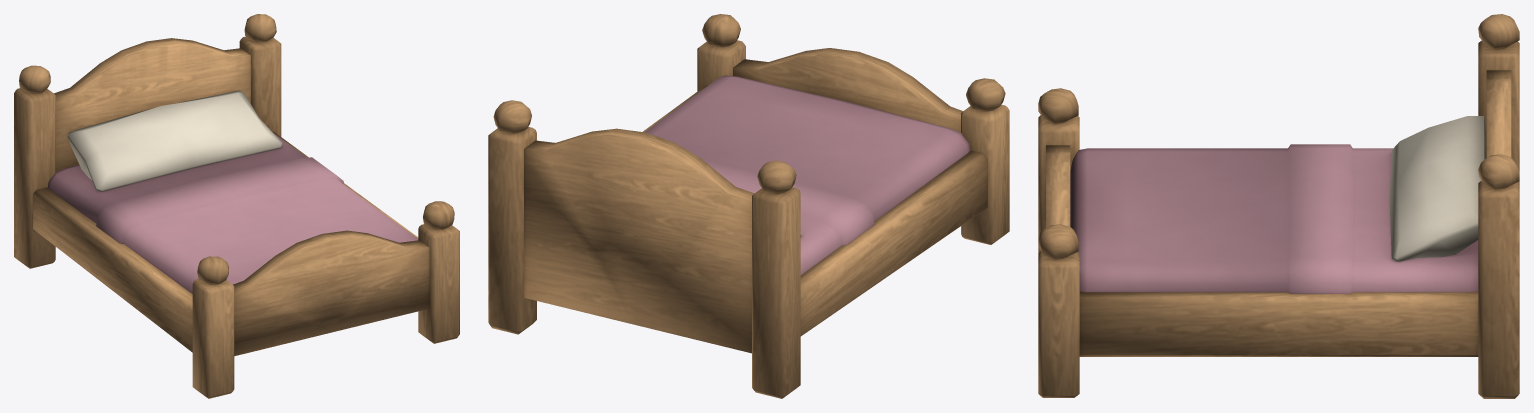
File: foal-bed.glb
The picture shows the model from 3 angles, left to right: view 1: azimuth 30°, elevation 25°; view 2: azimuth 150°, elevation 25°; view 3: azimuth 270°, elevation 25°; orthographic projection. The views are drawn at different scales.
Visible parts, largest first — view 1: foal-bed; view 2: foal-bed; view 3: foal-bed.
Part boxes in pixels (bbox=[...]): foal-bed: bbox=[14, 14, 459, 398]; foal-bed: bbox=[488, 14, 1009, 398]; foal-bed: bbox=[1038, 14, 1519, 398].
Bounding box in the file's own units: 0.752 × 0.5488 × 0.998.
1 material, 1 textured.
